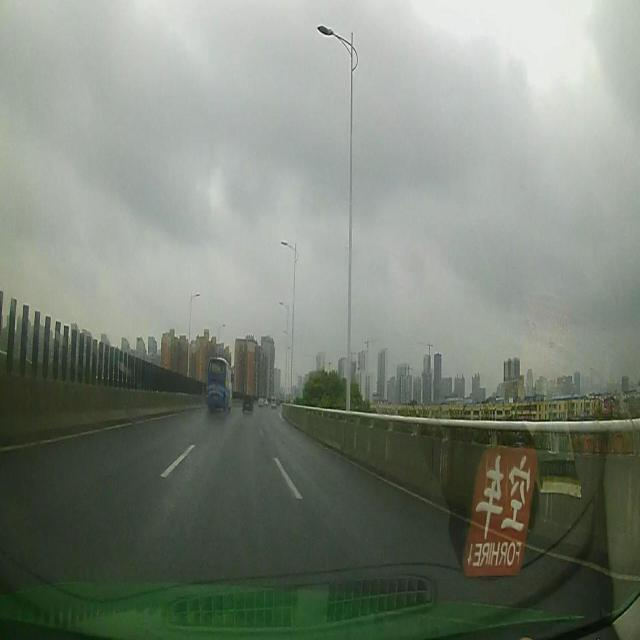car: (240, 394, 253, 414), (268, 394, 278, 410), (256, 394, 266, 408)
